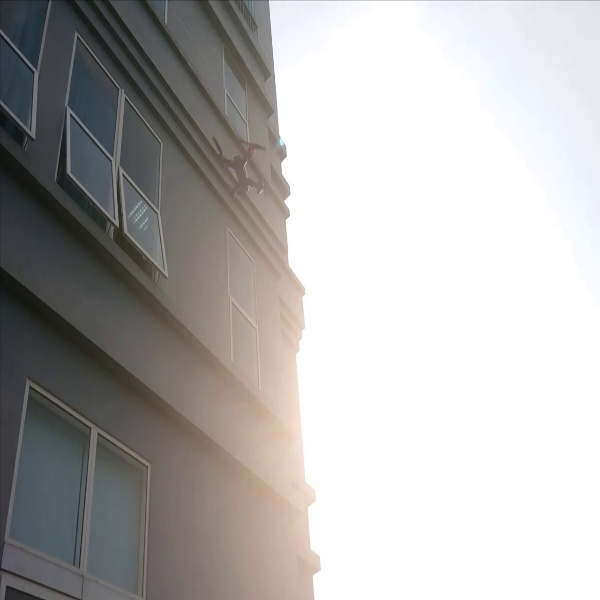drone: (207, 122, 277, 208)
